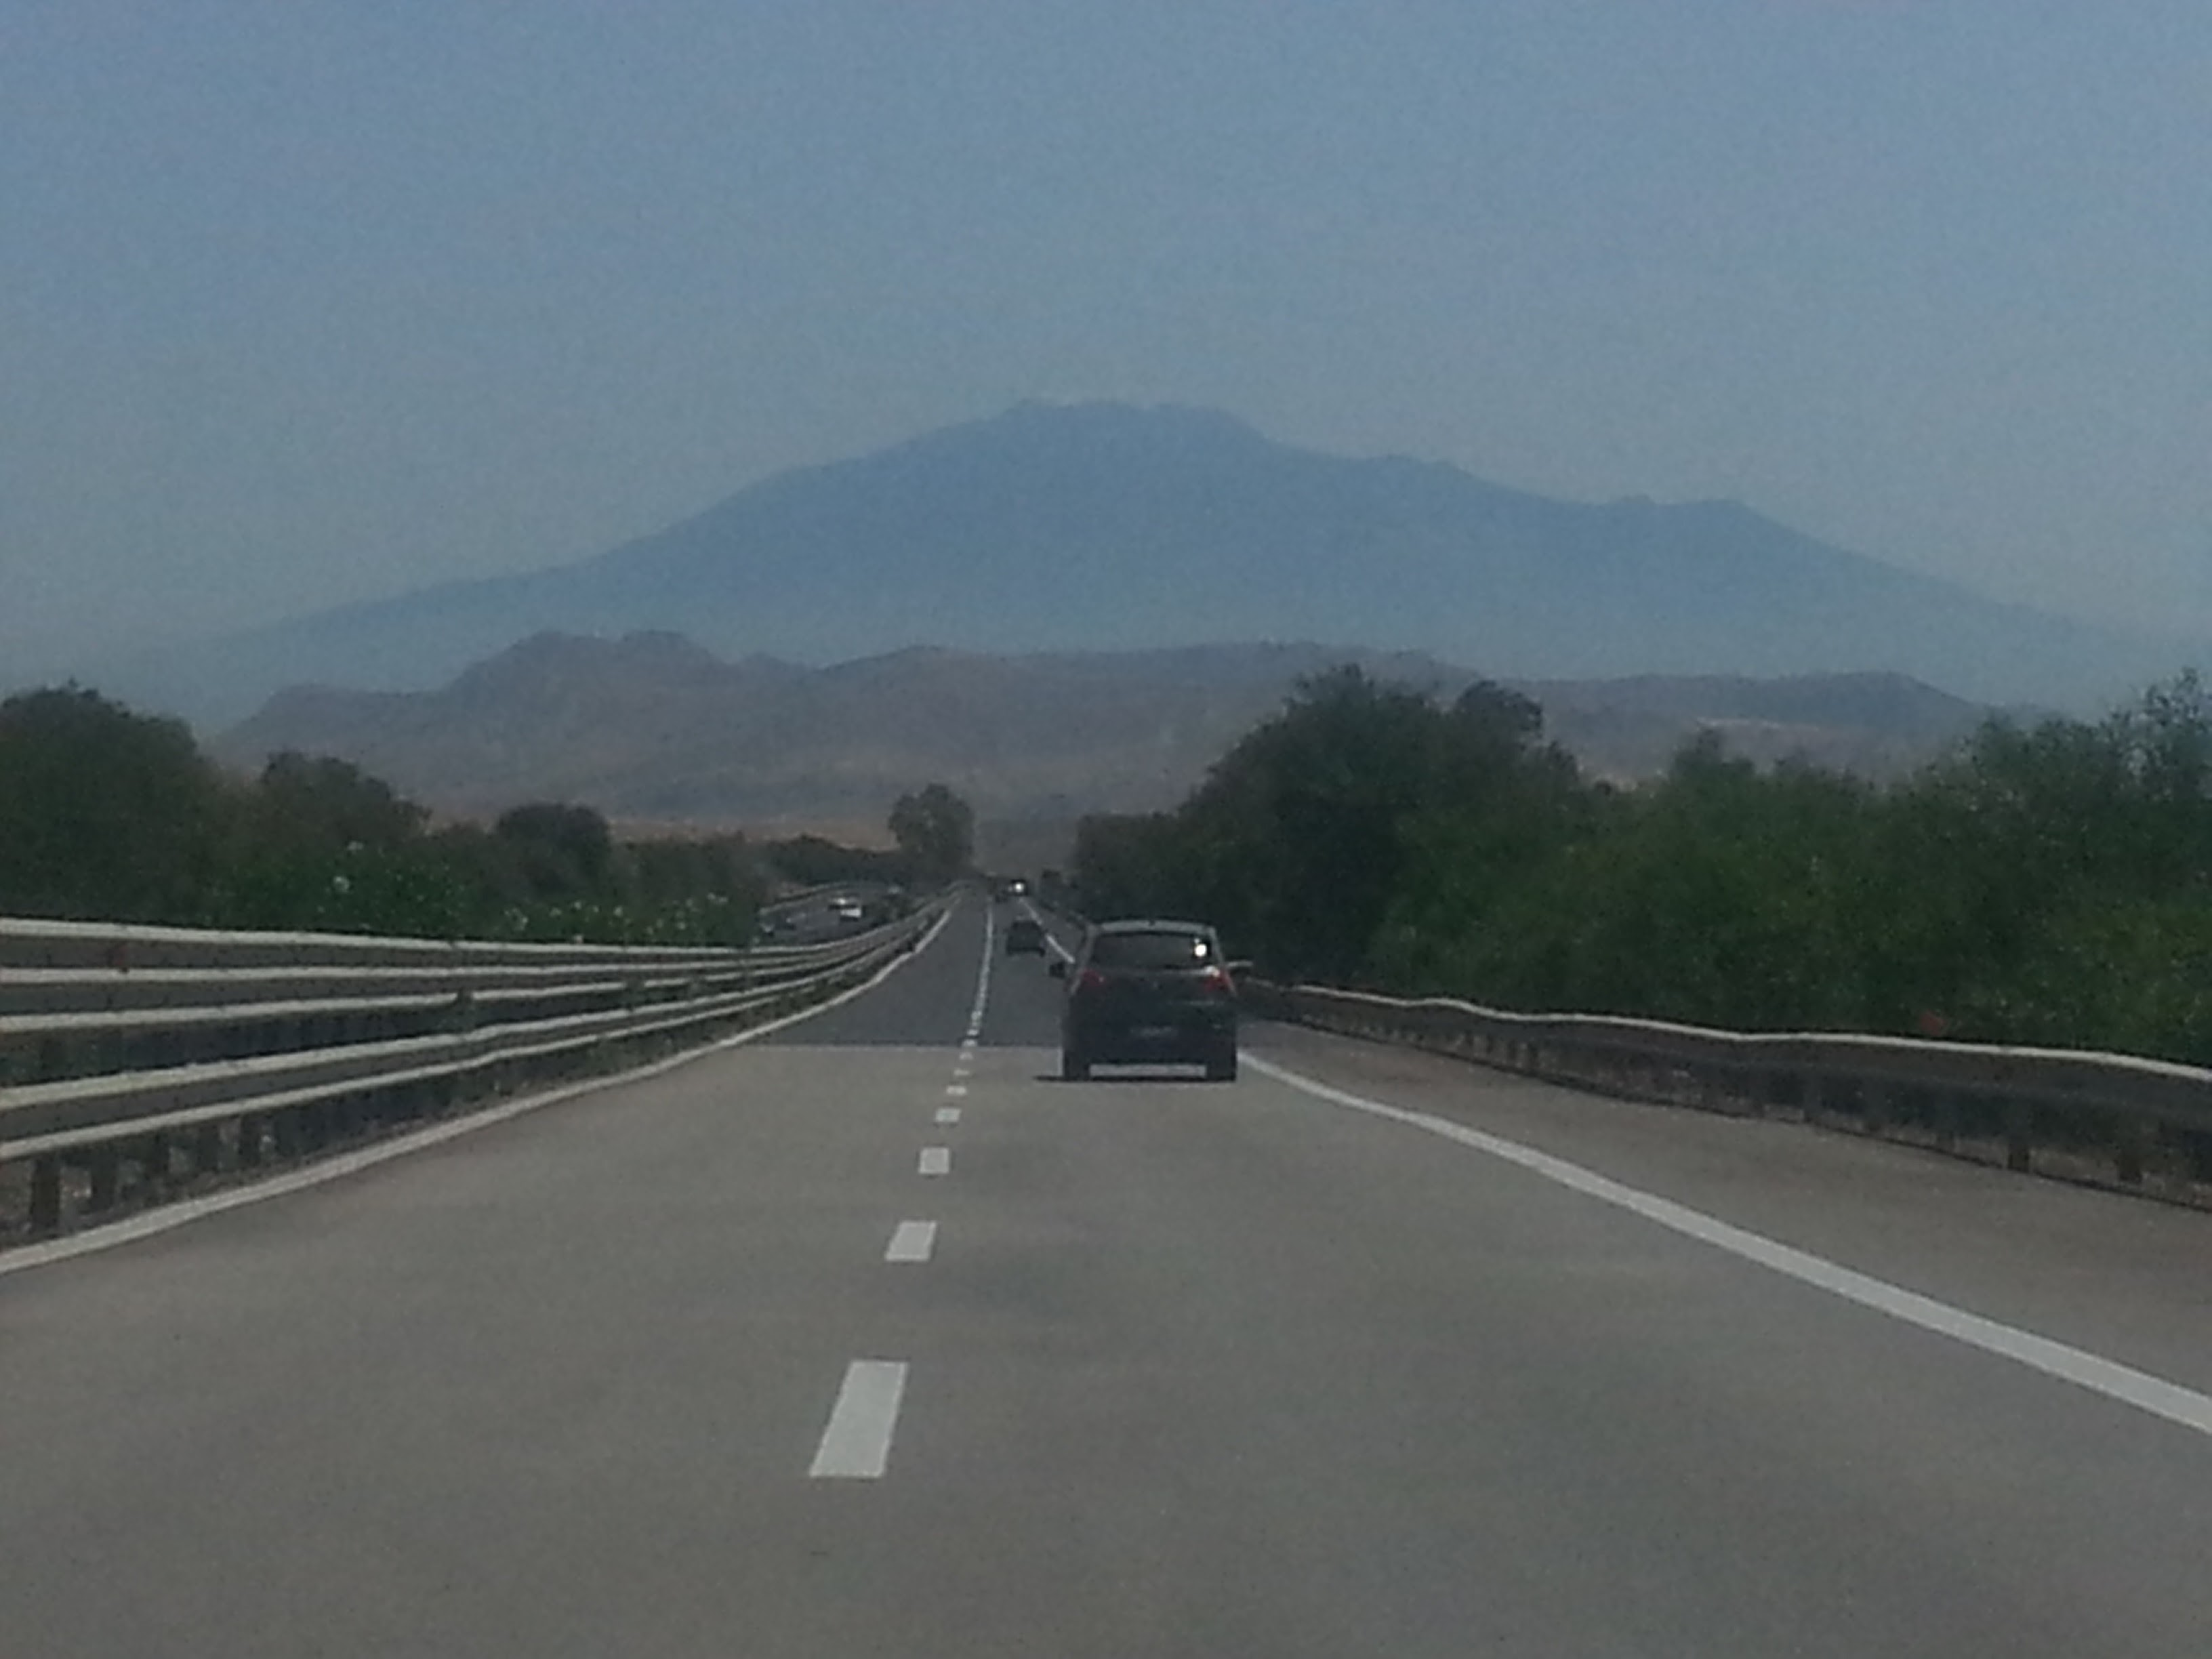car: (1052, 903, 1259, 1093)
